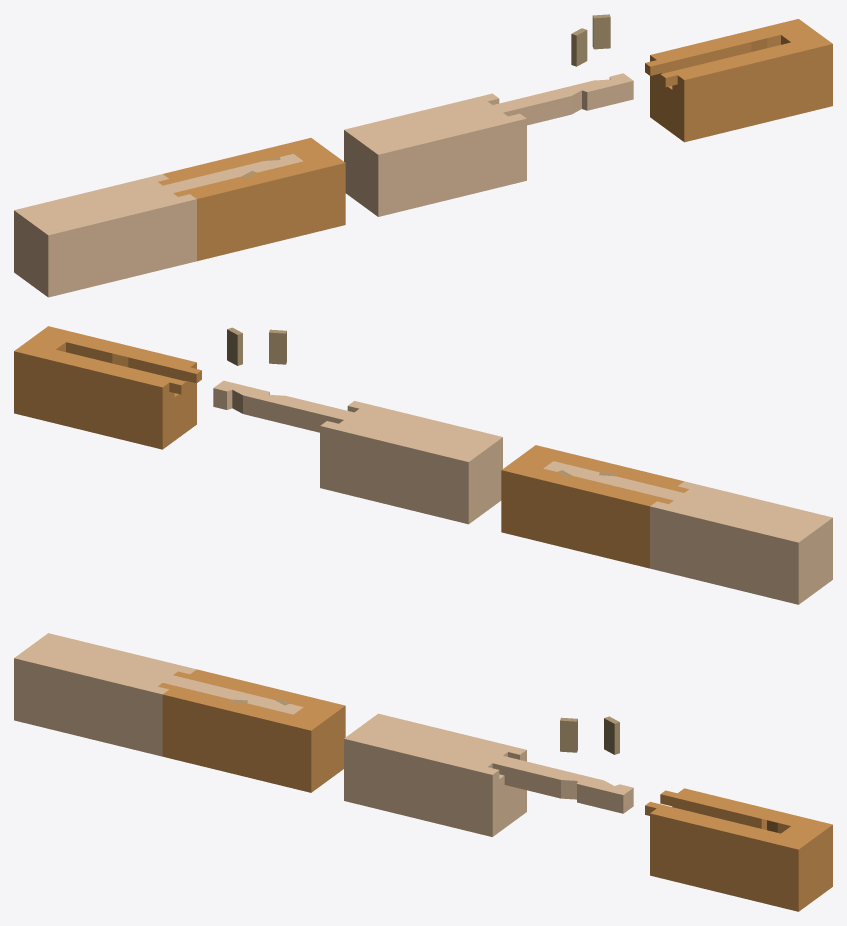
The picture shows the model from 3 angles, top to bottom: view 1: azimuth 30°, elevation 25°; view 2: azimuth 150°, elevation 25°; view 3: azimuth 330°, elevation 25°; orthographic projection.
Bounding box in the file's own units: 26.4 × 4 × 2.
